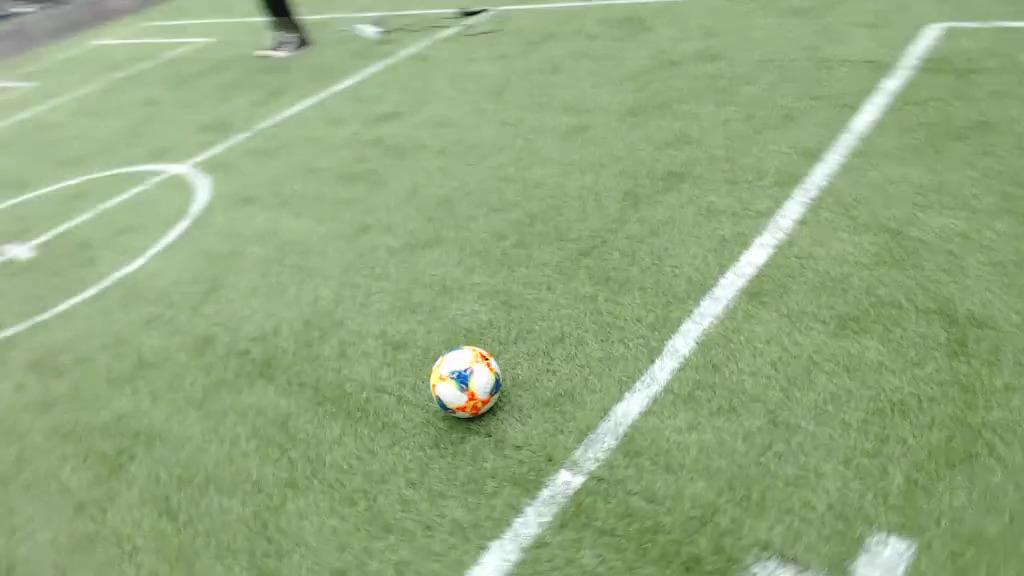ball: (420, 334, 519, 430)
